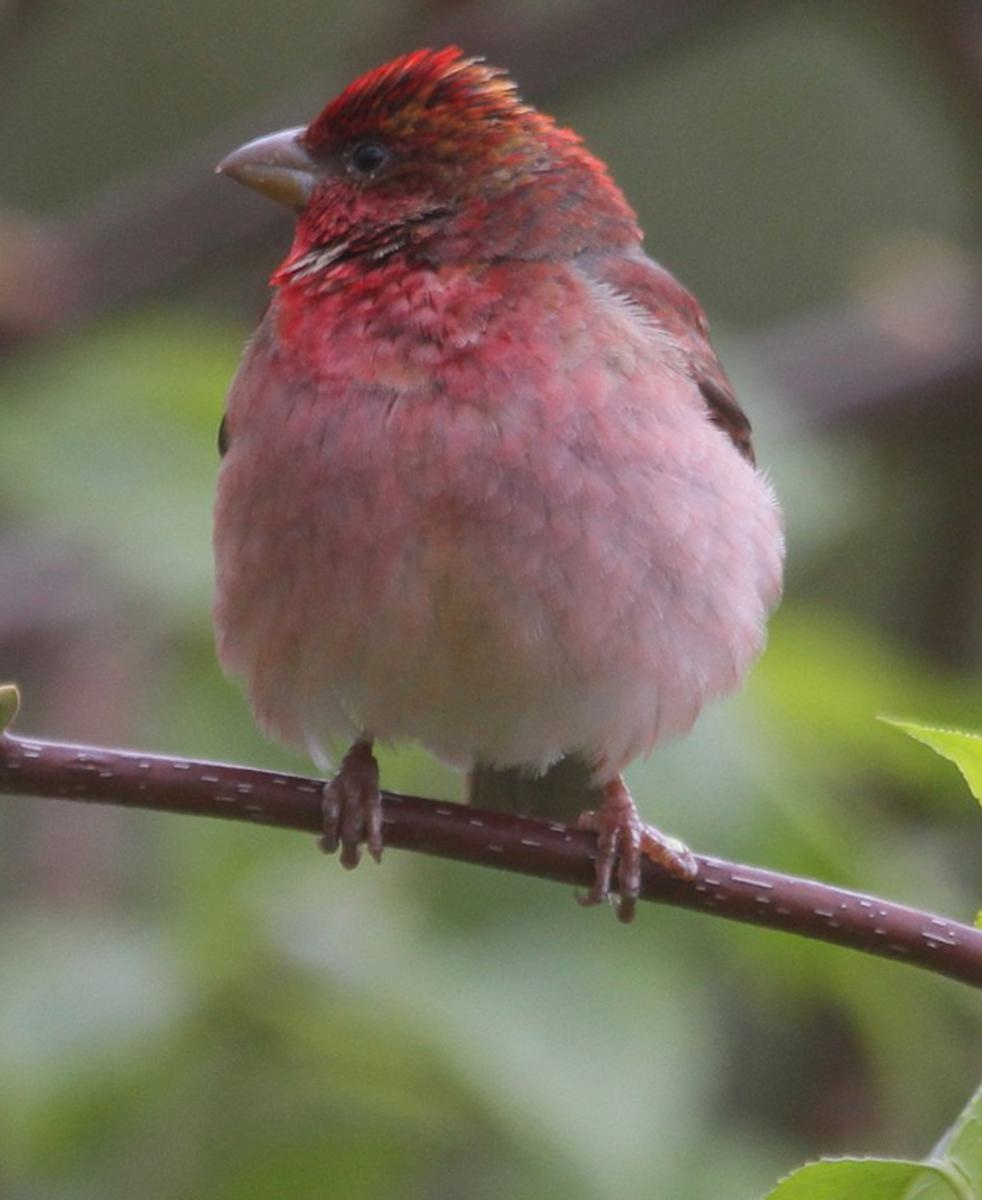rosefinch: (174, 35, 811, 895)
